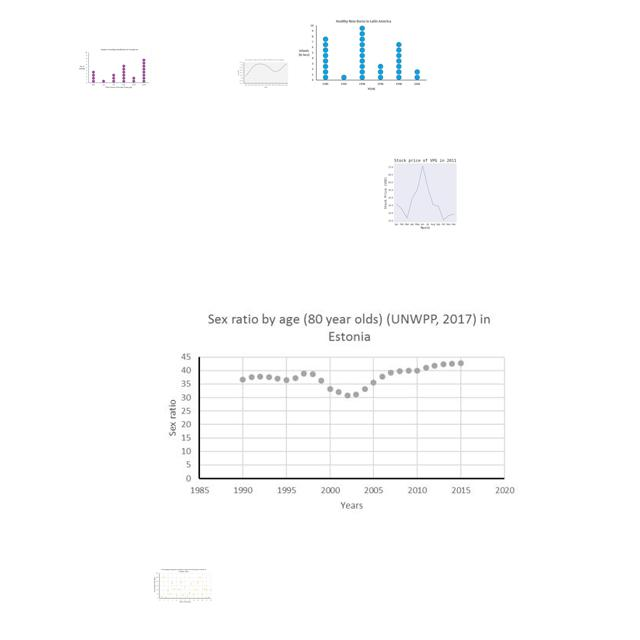Graph: (158, 303, 520, 518), (294, 15, 430, 95), (373, 154, 475, 231), (77, 47, 151, 90), (153, 568, 212, 603), (236, 58, 289, 89)
